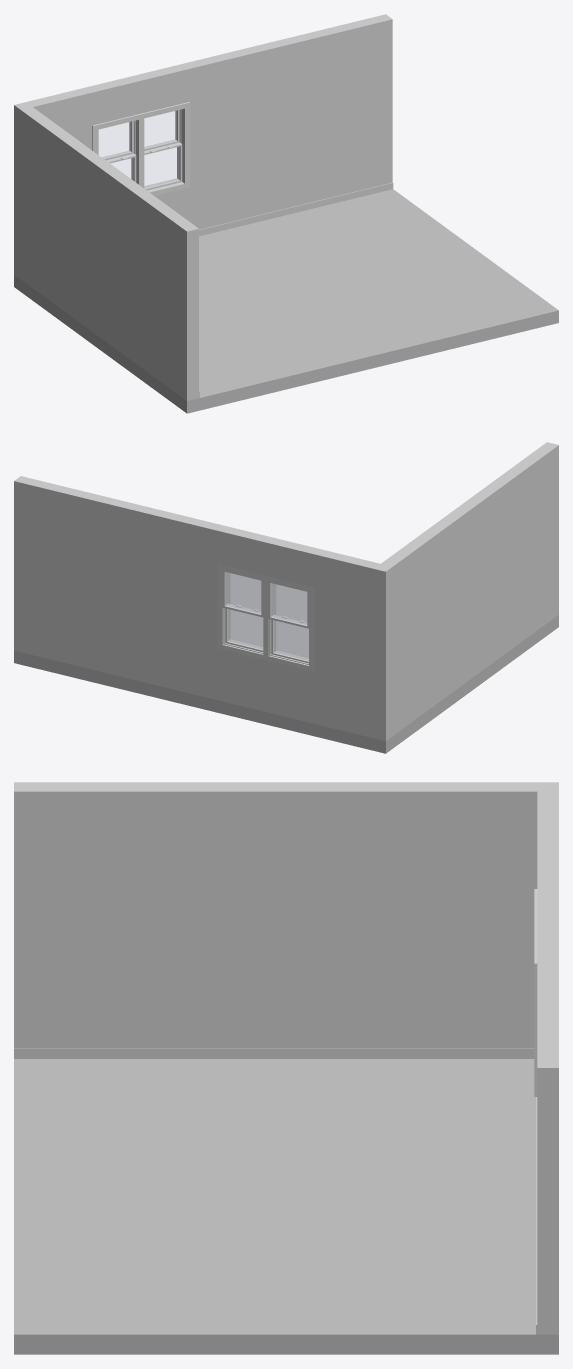
3 renders of one model, top to bottom at view 1: azimuth 30°, elevation 25°; view 2: azimuth 150°, elevation 25°; view 3: azimuth 270°, elevation 25°, orthographic. The views are drawn at different scales.
Size of the model in its own units: 248 by 116 by 200.
